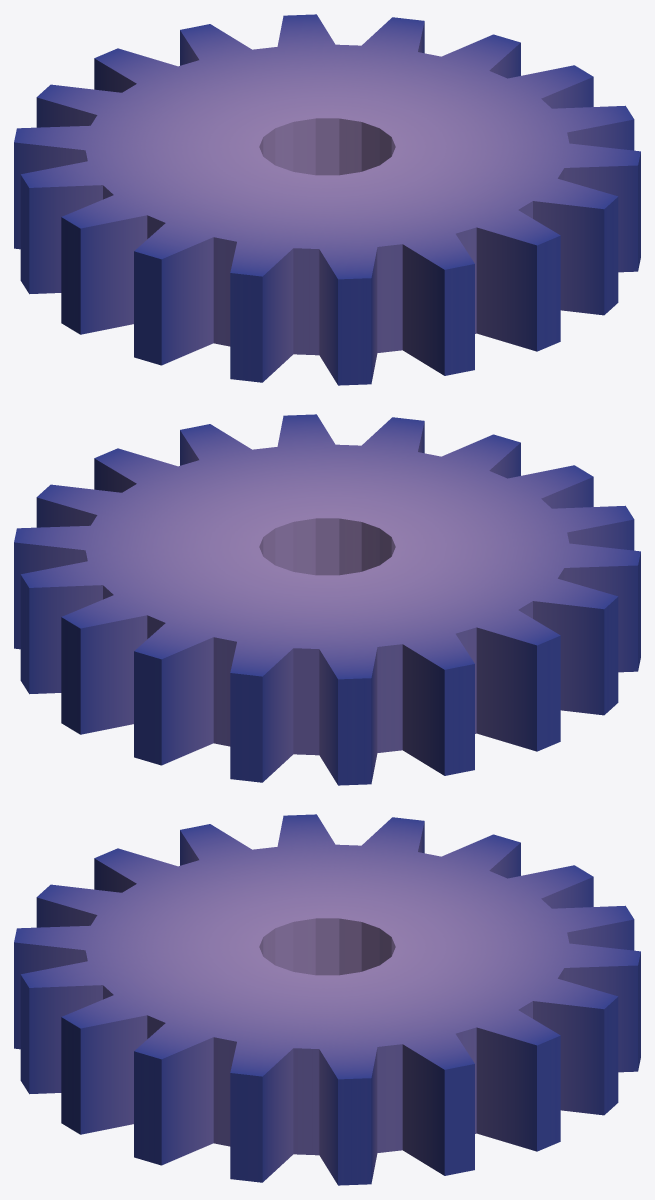
Rendered from gear4.fbx.
3 renders of one model, top to bottom at view 1: azimuth 30°, elevation 25°; view 2: azimuth 150°, elevation 25°; view 3: azimuth 270°, elevation 25°, orthographic.
Parts seen in each view (by area): view 1: gear4; view 2: gear4; view 3: gear4.
Part boxes in pixels (x1,y1,x2,y2): gear4: (14,14,640,385); gear4: (14,414,640,785); gear4: (14,814,640,1185).
Bounding box in the file's own units: 250 × 46.63 × 250.
Materials: 1 (1 with a texture image).
